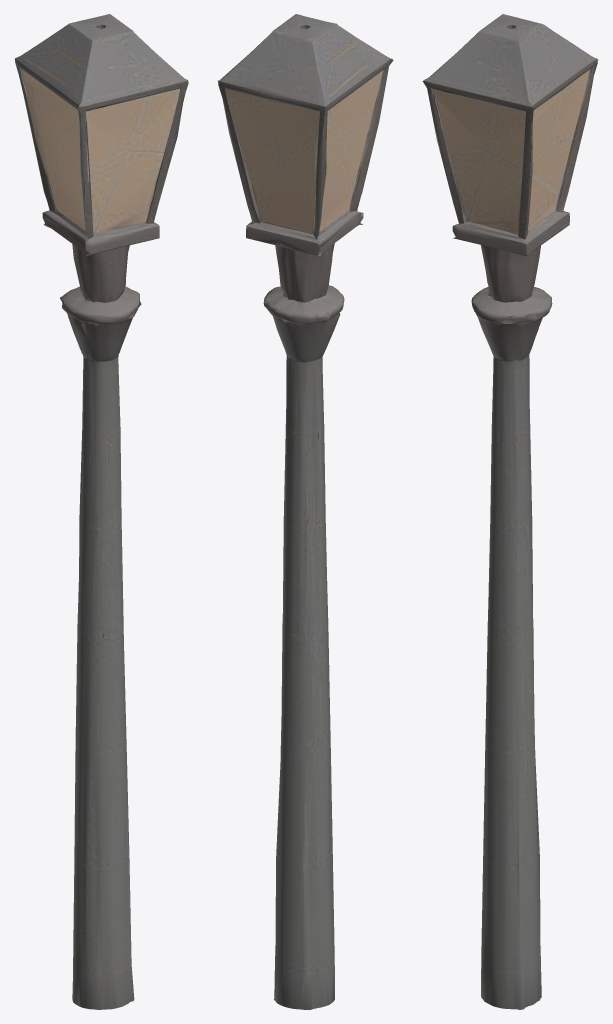
File: 54-street-lamp.glb
3 views of the same model, side by side, from view 1: azimuth 30°, elevation 25°; view 2: azimuth 150°, elevation 25°; view 3: azimuth 330°, elevation 25° (orthographic).
Parts seen in each view (by area): view 1: geometry_0; view 2: geometry_0; view 3: geometry_0.
Boxes of the visible parts, x1,y1,x2,y2 form: geometry_0: [15, 14, 188, 1009]; geometry_0: [217, 14, 393, 1009]; geometry_0: [422, 14, 598, 1009].
Bounding box in the file's own units: 0.1138 × 0.9512 × 0.1167.
Materials: 1 (1 with a texture image).
